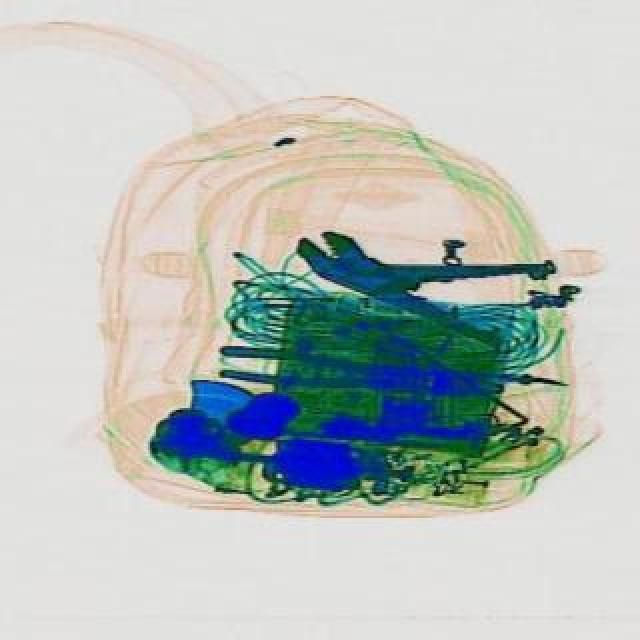wrench: (280, 198, 546, 358), (212, 350, 504, 410)
